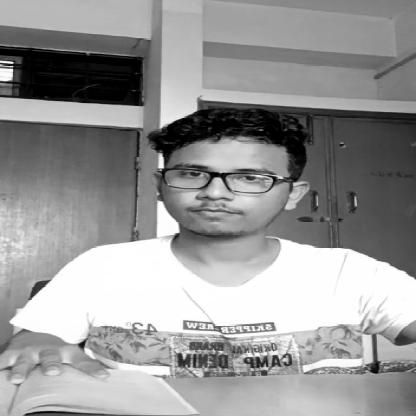Normal: (134, 107, 312, 239)
